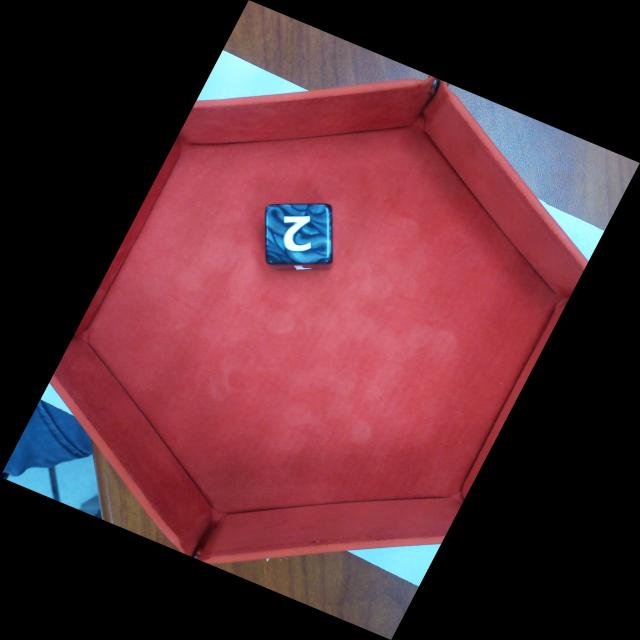dice: (264, 202, 332, 268)
